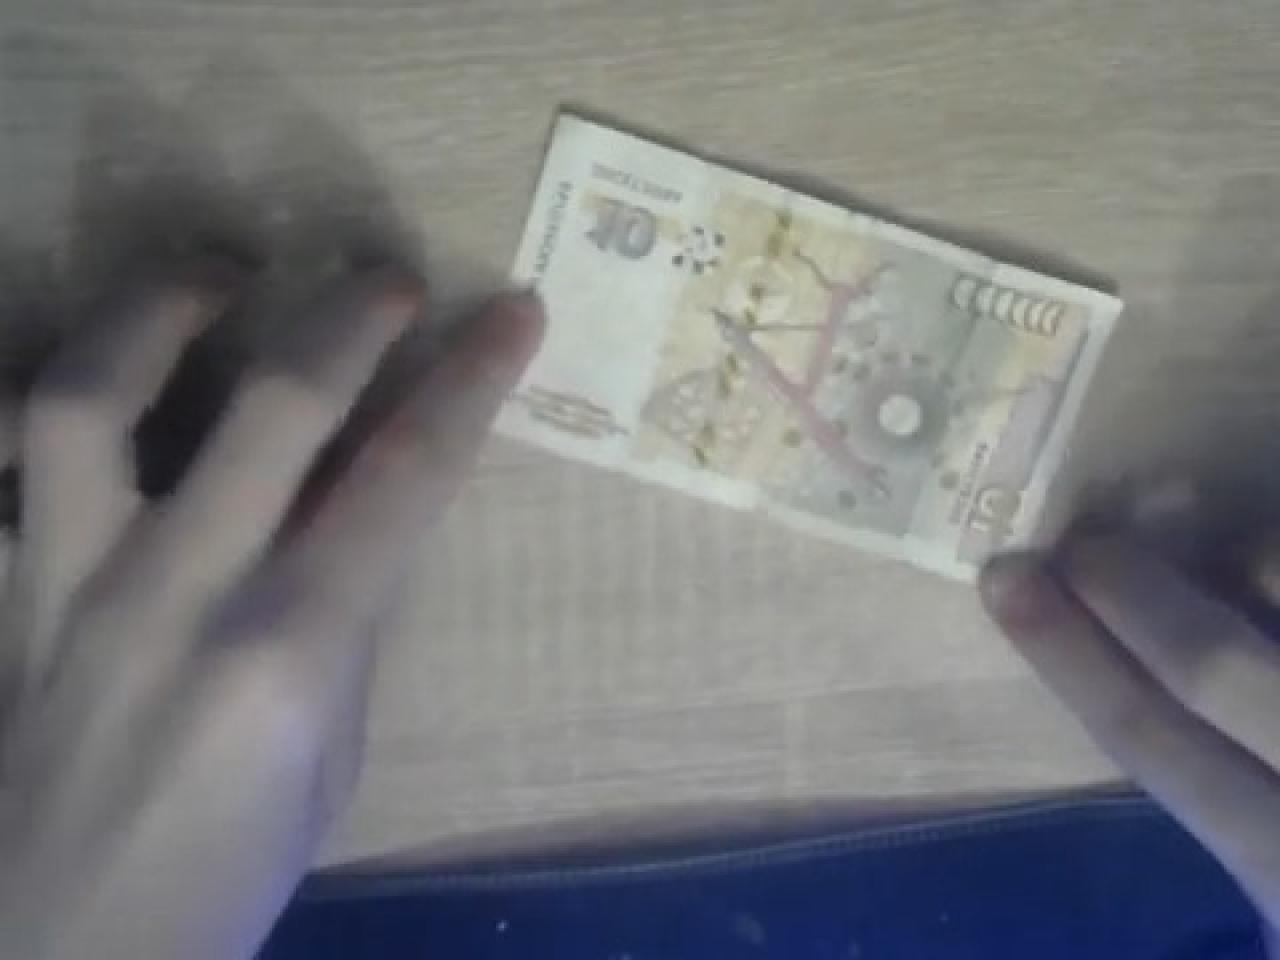10leva: (493, 107, 1128, 581)
